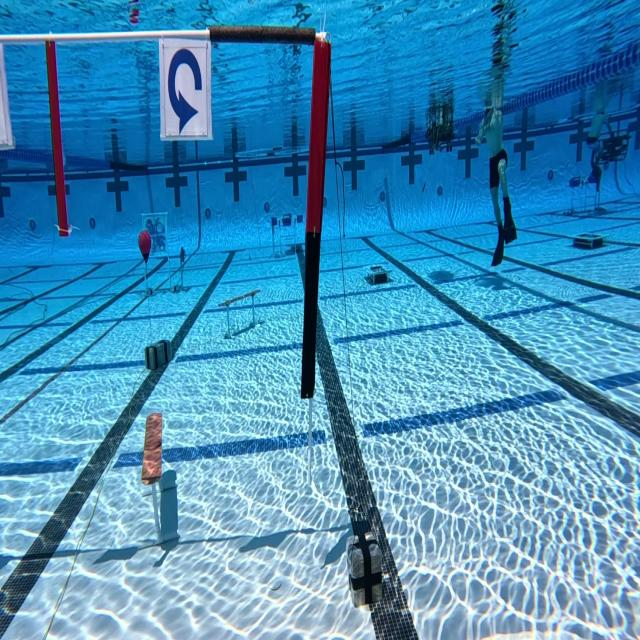blue_side: (158, 34, 220, 150)
